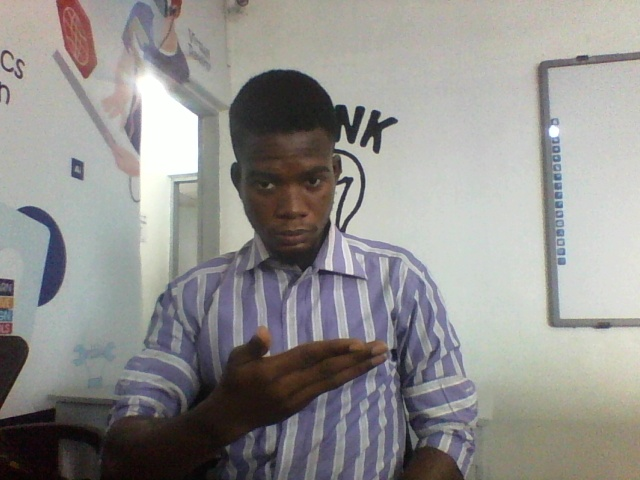you_are_welcome: (161, 329, 389, 462)
